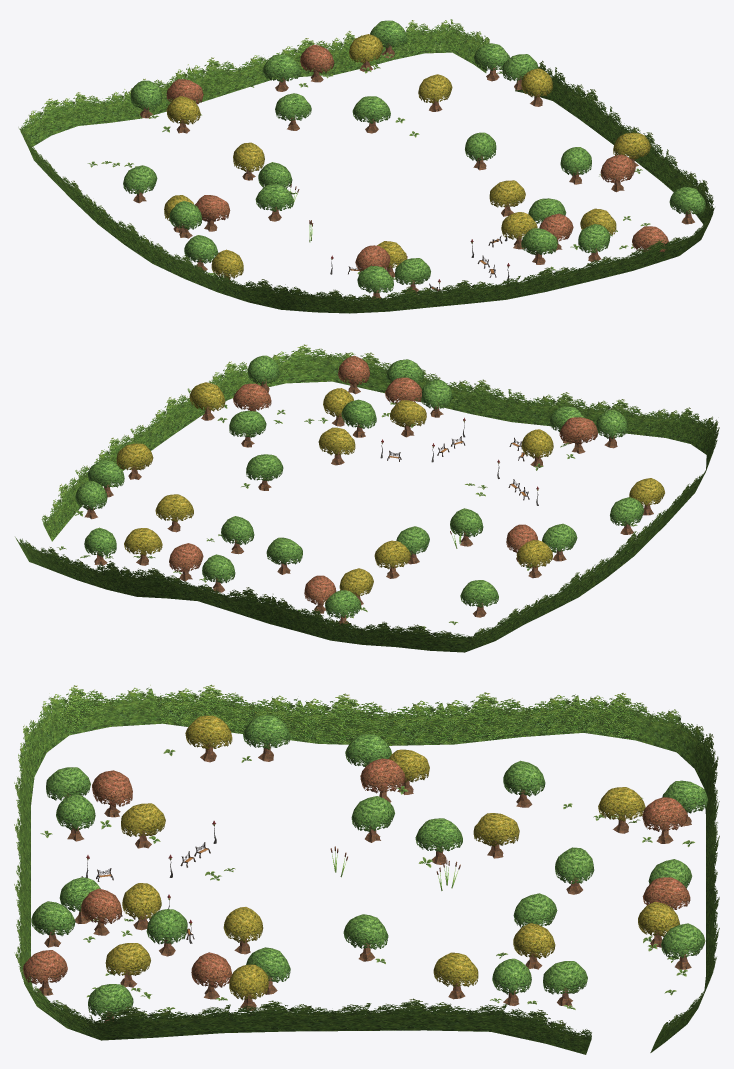
The model's file is level1rest.obj.
3 renders of one model, top to bottom at view 1: azimuth 30°, elevation 25°; view 2: azimuth 150°, elevation 25°; view 3: azimuth 270°, elevation 25°, orthographic. The views are drawn at different scales.
Parts seen in each view (by area): view 1: Plane23_Plane23_plant01; view 2: Plane23_Plane23_plant01; view 3: Plane23_Plane23_plant01.
Part boxes in pixels (x1,y1,x2,y2): Plane23_Plane23_plant01: (18, 19, 714, 313); Plane23_Plane23_plant01: (15, 344, 719, 652); Plane23_Plane23_plant01: (14, 684, 719, 1054).
Size of the model in its own units: 1.09 by 0.1744 by 1.09.
Materials: 8 (8 with a texture image).
